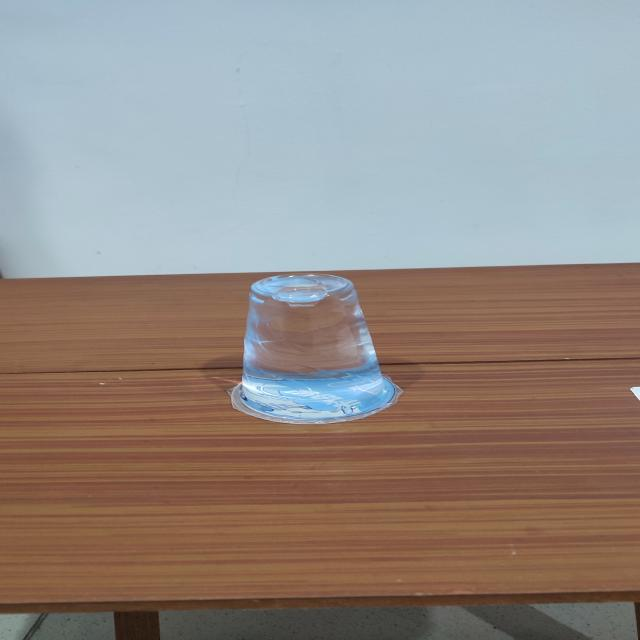air gelas: (209, 269, 407, 428)
